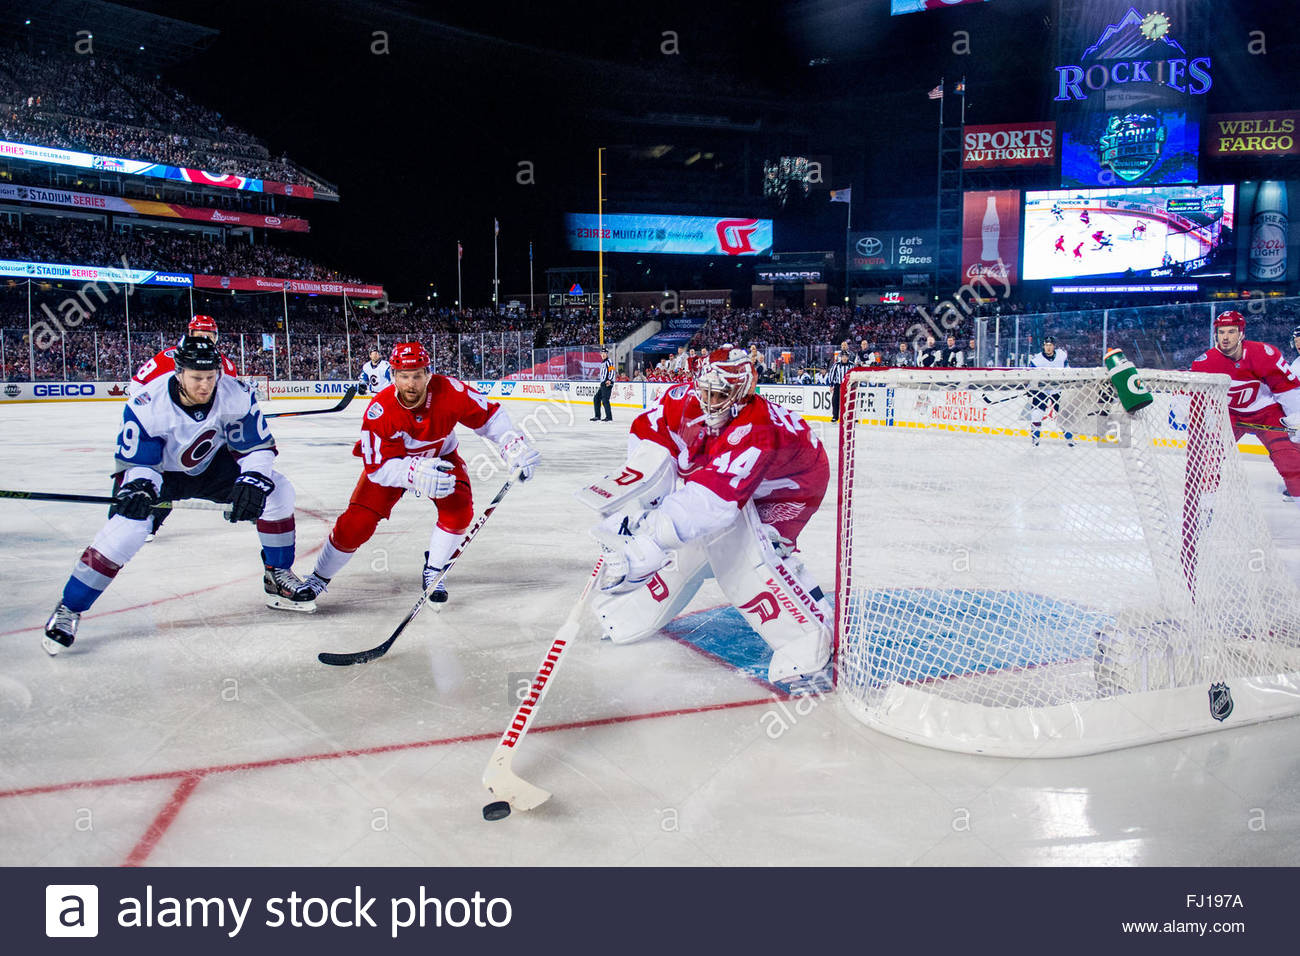geico: (30, 377, 101, 407)
